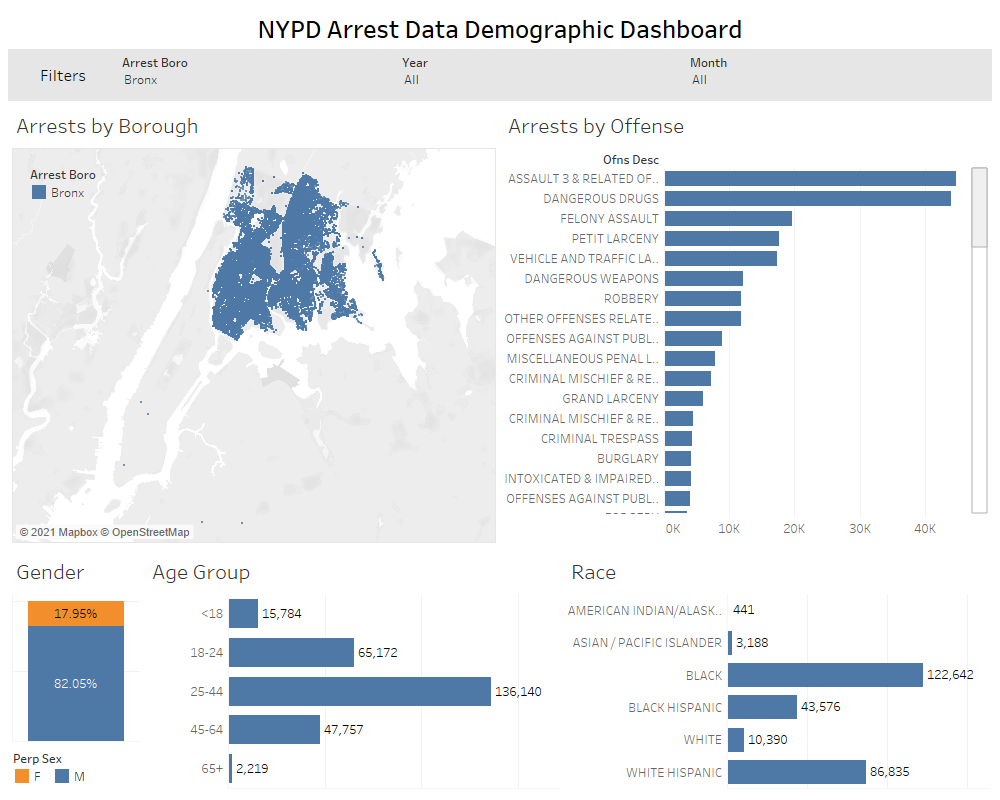

Layout of this report page (visuals, bound fields, positions):
{"tool":"tableau","page":{"name":"NYPD Arrest Data Demographic Dashboard","canvas":[1000,800],"ordinal":0},"visuals":[{"type":"title","box":[8,8,984,41]},{"type":"text","box":[8,49,110,52]},{"type":"filter","title":"Arrests by Offense Type","param":"[federated.0u0g2jr0y9b0lh1fggo9v036ljvq].[none:ARREST_BORO:nk]","box":[118,49,280,52]},{"type":"filter","title":"Arrests by Offense Type","param":"[federated.0u0g2jr0y9b0lh1fggo9v036ljvq].[yr:ARREST_DATE:ok]","box":[398,49,288,52]},{"type":"filter","title":"Arrests by Offense Type","param":"[federated.0u0g2jr0y9b0lh1fggo9v036ljvq].[mn:ARREST_DATE:ok]","box":[686,49,306,52]},{"type":"worksheet","title":"Arrests by Borough","mark":"Automatic","rows":["Latitude"],"cols":["Longitude"],"box":[8,101,492,445.8]},{"type":"worksheet","title":"Arrests by Offense Type","mark":"Automatic","rows":["OFNS_DESC"],"cols":["ARREST_DATE"],"box":[500,101,492,445.8]},{"type":"legend","title":"Arrests by Borough","param":"[federated.0u0g2jr0y9b0lh1fggo9v036ljvq].[none:ARREST_BORO:nk]","box":[29,164,140,118]},{"type":"worksheet","title":"Gender","mark":"Automatic","rows":["ARREST_DATE"],"box":[8,546.8,136,197.5]},{"type":"worksheet","title":"Age Group","mark":"Automatic","rows":["AGE_GROUP"],"cols":["ARREST_DATE"],"box":[144,546.8,419,245.2]},{"type":"worksheet","title":"Race","mark":"Automatic","rows":["PERP_RACE"],"cols":["ARREST_DATE"],"box":[563,546.8,429,245.2]},{"type":"legend","title":"Gender","param":"[federated.0u0g2jr0y9b0lh1fggo9v036ljvq].[none:PERP_SEX:nk]","box":[8,744.4,136,47.6]}]}

Visuals, with their boxes in screenshot pixels (x1, y1, x2, y2), scaled from the page's 1000x800 canvas onto the 1000x800 screenshot:
title: 8, 8, 992, 49
text: 8, 49, 118, 101
"Arrests by Offense Type" filter: 118, 49, 398, 101
"Arrests by Offense Type" filter: 398, 49, 686, 101
"Arrests by Offense Type" filter: 686, 49, 992, 101
"Arrests by Borough" worksheet: 8, 101, 500, 547
"Arrests by Offense Type" worksheet: 500, 101, 992, 547
"Arrests by Borough" legend: 29, 164, 169, 282
"Gender" worksheet: 8, 547, 144, 744
"Age Group" worksheet: 144, 547, 563, 792
"Race" worksheet: 563, 547, 992, 792
"Gender" legend: 8, 744, 144, 792
